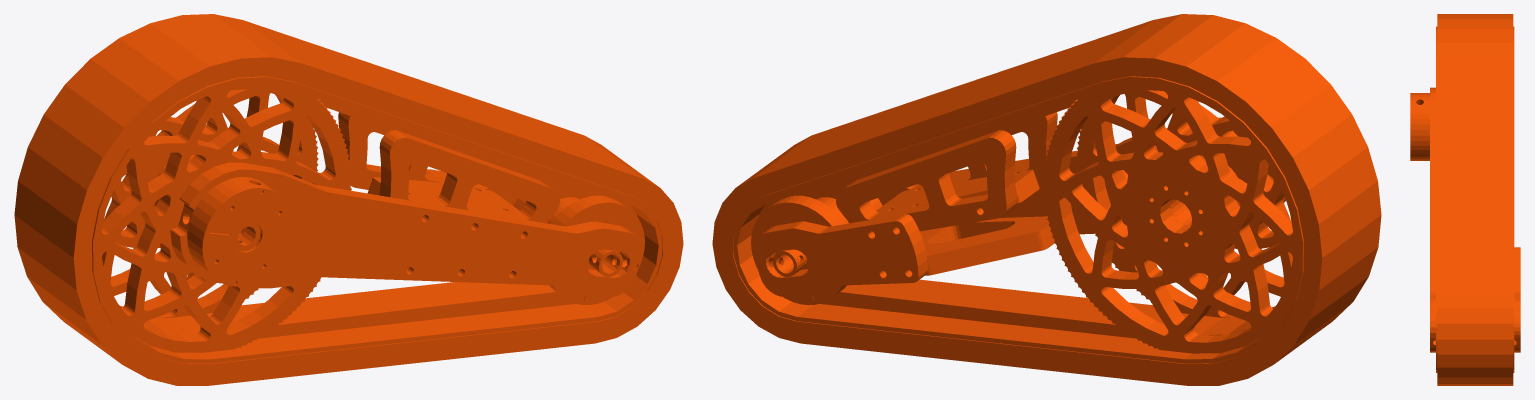
File: rear-right.dae
3 views of the same model, side by side, from view 1: azimuth 30°, elevation 25°; view 2: azimuth 150°, elevation 25°; view 3: azimuth 270°, elevation 25° (orthographic). The views are drawn at different scales.
Parts seen in each view (by area): view 1: Flipper-rear-right; view 2: Flipper-rear-right; view 3: Flipper-rear-right.
Boxes of the visible parts, x1,y1,x2,y2 form: Flipper-rear-right: [14, 14, 683, 385]; Flipper-rear-right: [712, 14, 1381, 385]; Flipper-rear-right: [1410, 14, 1520, 385].
Size of the model in its own units: 17.24 by 4.23 by 10.03.
